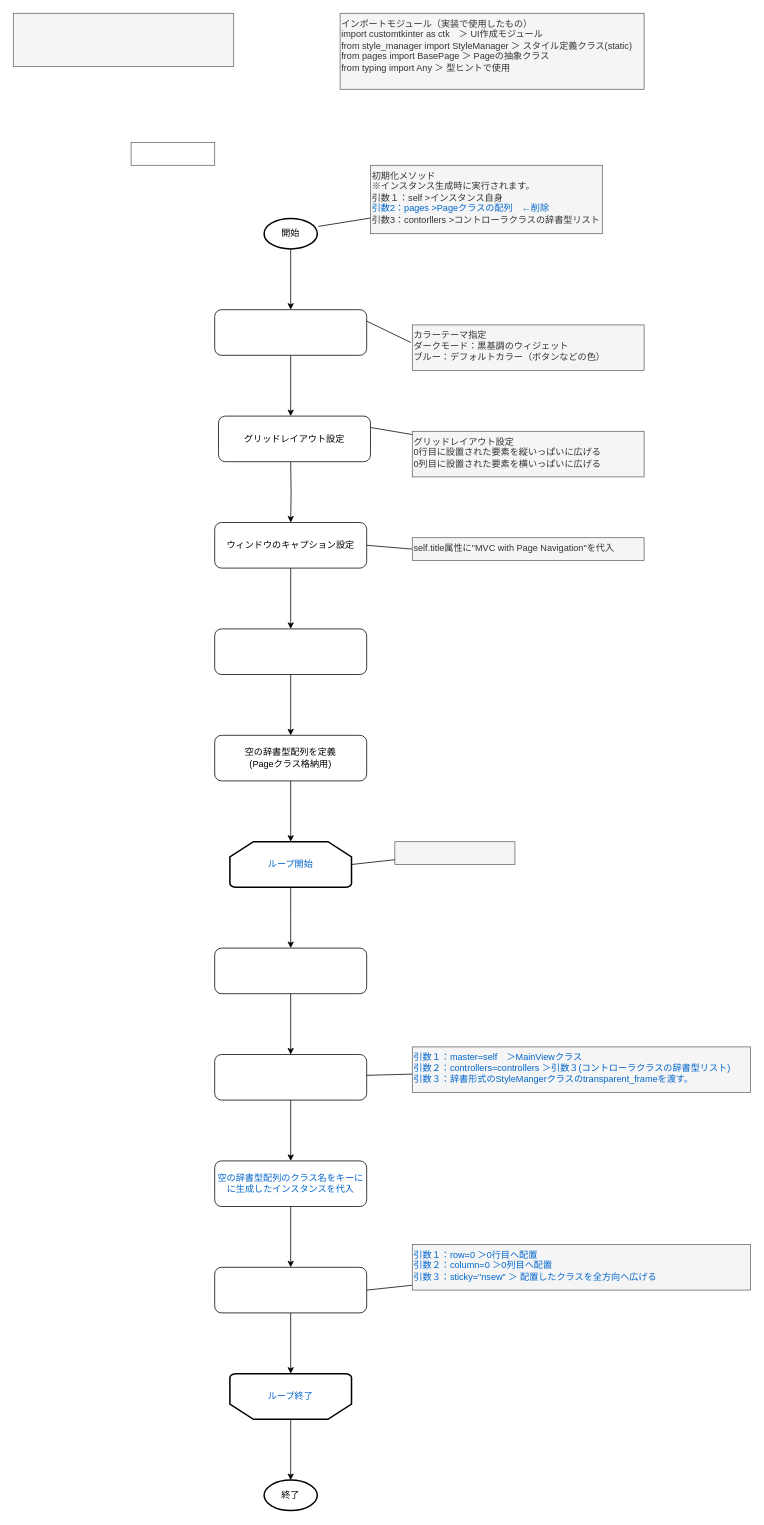
The diagram is 764 pixels wide and 1525 high, and some of its shapes have lost their labels. The box of each missing label's shape, as (x1, y1, x2, y2) in pixels:
※青：削除: (130, 142, 215, 165)
カラーテーマ設定: (214, 309, 367, 355)
初期化メソッド クラス：MainViewクラス 継承：ctk.CTk > ウィンドウクラス: (13, 13, 234, 66)
引数2：pagesから取り出した クラスのインスタンス生成: (214, 1054, 367, 1100)
引数2：pagesから取り出した クラス名（文字列）を取得: (214, 947, 367, 994)
引数2：pages配列分ループ: (394, 841, 515, 864)
生成したクラスをself.gridメソッド で配置: (214, 1267, 367, 1313)
画面サイズ設定（1000x550）: (214, 628, 367, 674)
